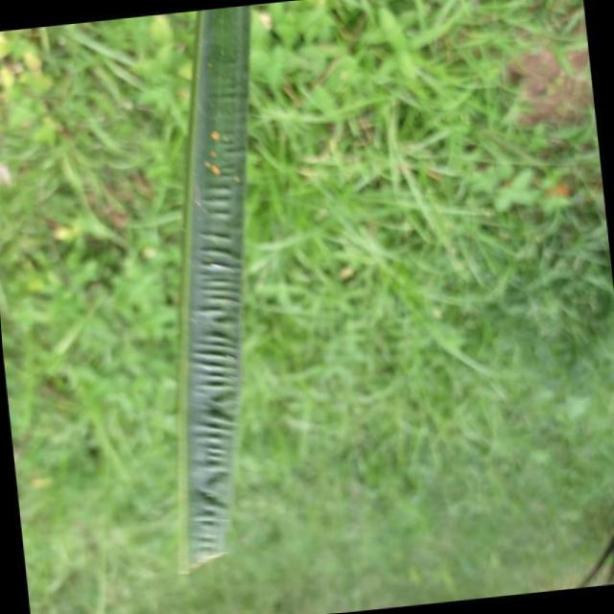Boron: (179, 0, 256, 579)
